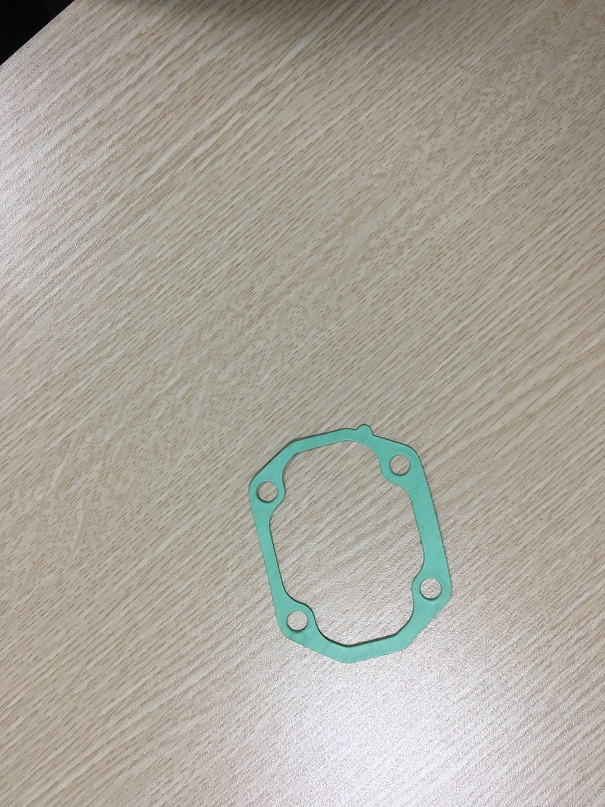type2: (237, 417, 462, 671)
